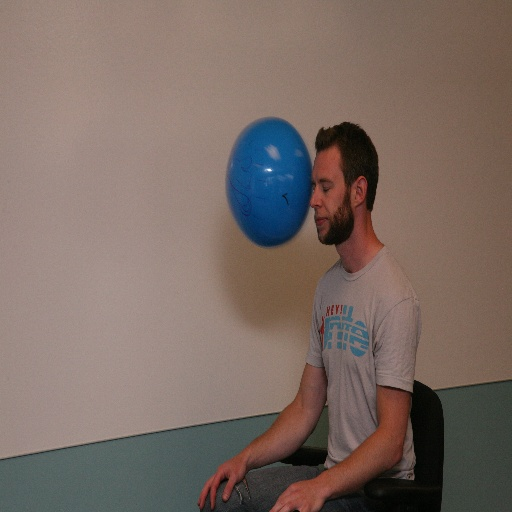hand: (206, 427, 276, 505), (269, 477, 326, 511)
